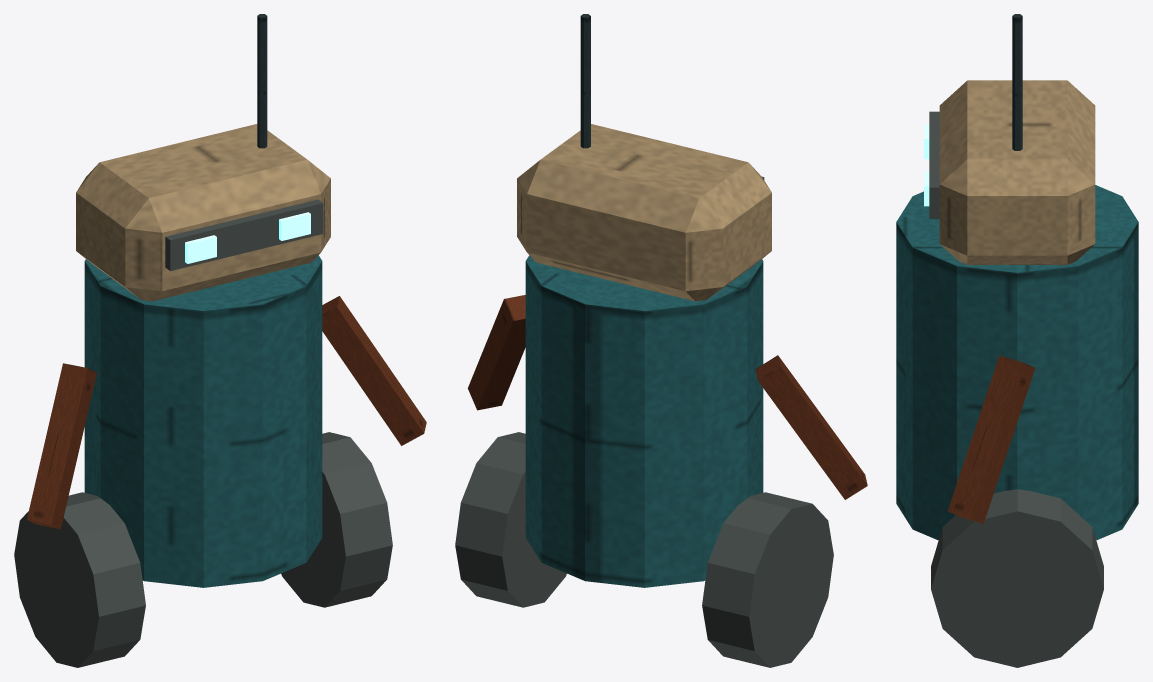
Rendered from robot.glb.
3 renders of one model, left to right at view 1: azimuth 30°, elevation 25°; view 2: azimuth 150°, elevation 25°; view 3: azimuth 270°, elevation 25°, orthographic.
Parts seen in each view (by area): view 1: robot_paint.014, robot_rubber.014, robot_pale.014, robot_rust.014, robot_metal.014, robot_blue.014; view 2: robot_paint.014, robot_pale.014, robot_rubber.014, robot_rust.014, robot_metal.014; view 3: robot_paint.014, robot_pale.014, robot_rubber.014, robot_rust.014, robot_metal.014, robot_blue.014.
Boxes of the visible parts, x1=… form: robot_paint.014: x1=84, y1=255, x2=322, y2=587; robot_rubber.014: x1=14, y1=199, x2=392, y2=667; robot_pale.014: x1=76, y1=124, x2=330, y2=301; robot_rust.014: x1=27, y1=296, x2=426, y2=529; robot_metal.014: x1=257, y1=14, x2=267, y2=148; robot_blue.014: x1=185, y1=212, x2=310, y2=263; robot_paint.014: x1=525, y1=255, x2=763, y2=587; robot_pale.014: x1=517, y1=124, x2=771, y2=301; robot_rubber.014: x1=455, y1=176, x2=833, y2=667; robot_rust.014: x1=467, y1=295, x2=867, y2=499; robot_metal.014: x1=580, y1=14, x2=590, y2=148; robot_paint.014: x1=896, y1=185, x2=1138, y2=540; robot_pale.014: x1=939, y1=80, x2=1095, y2=264; robot_rubber.014: x1=929, y1=111, x2=1103, y2=667; robot_rust.014: x1=947, y1=355, x2=1035, y2=523; robot_metal.014: x1=1012, y1=14, x2=1022, y2=150; robot_blue.014: x1=924, y1=124, x2=929, y2=206.
Size of the model in its own units: 1.36 by 1.94 by 0.7.
Materials: 6 (4 with a texture image).
